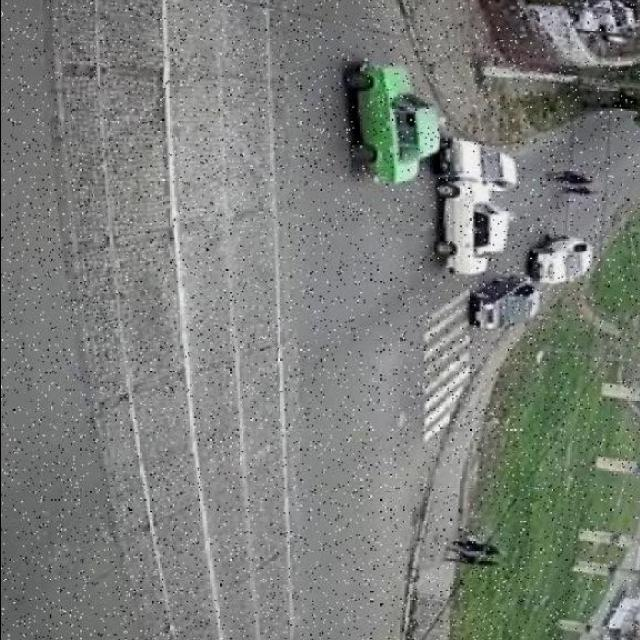accident: (418, 122, 539, 281)
